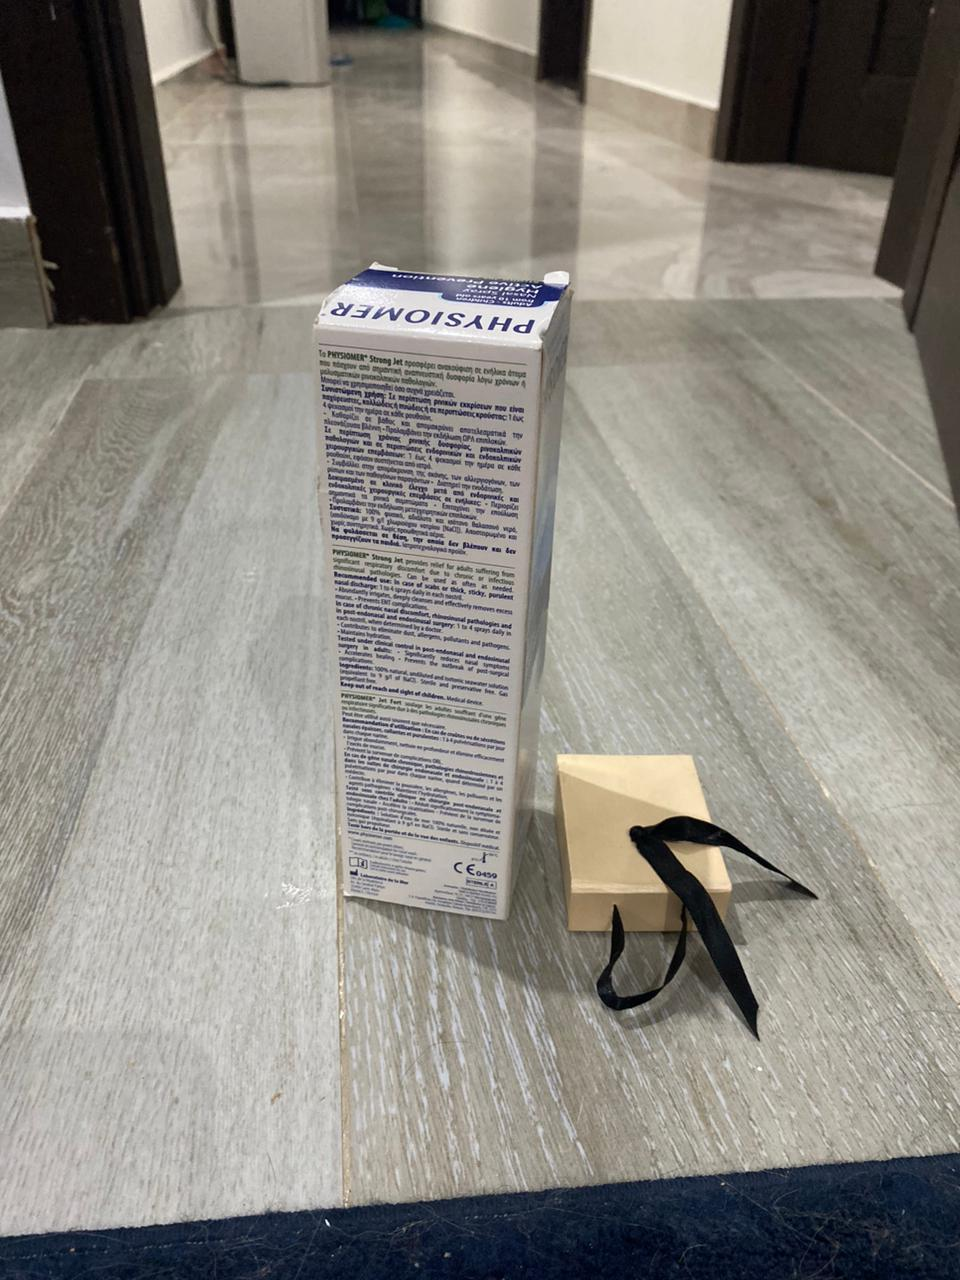Physiomer: (304, 255, 578, 934)
Yellow Box: (553, 741, 742, 942)
